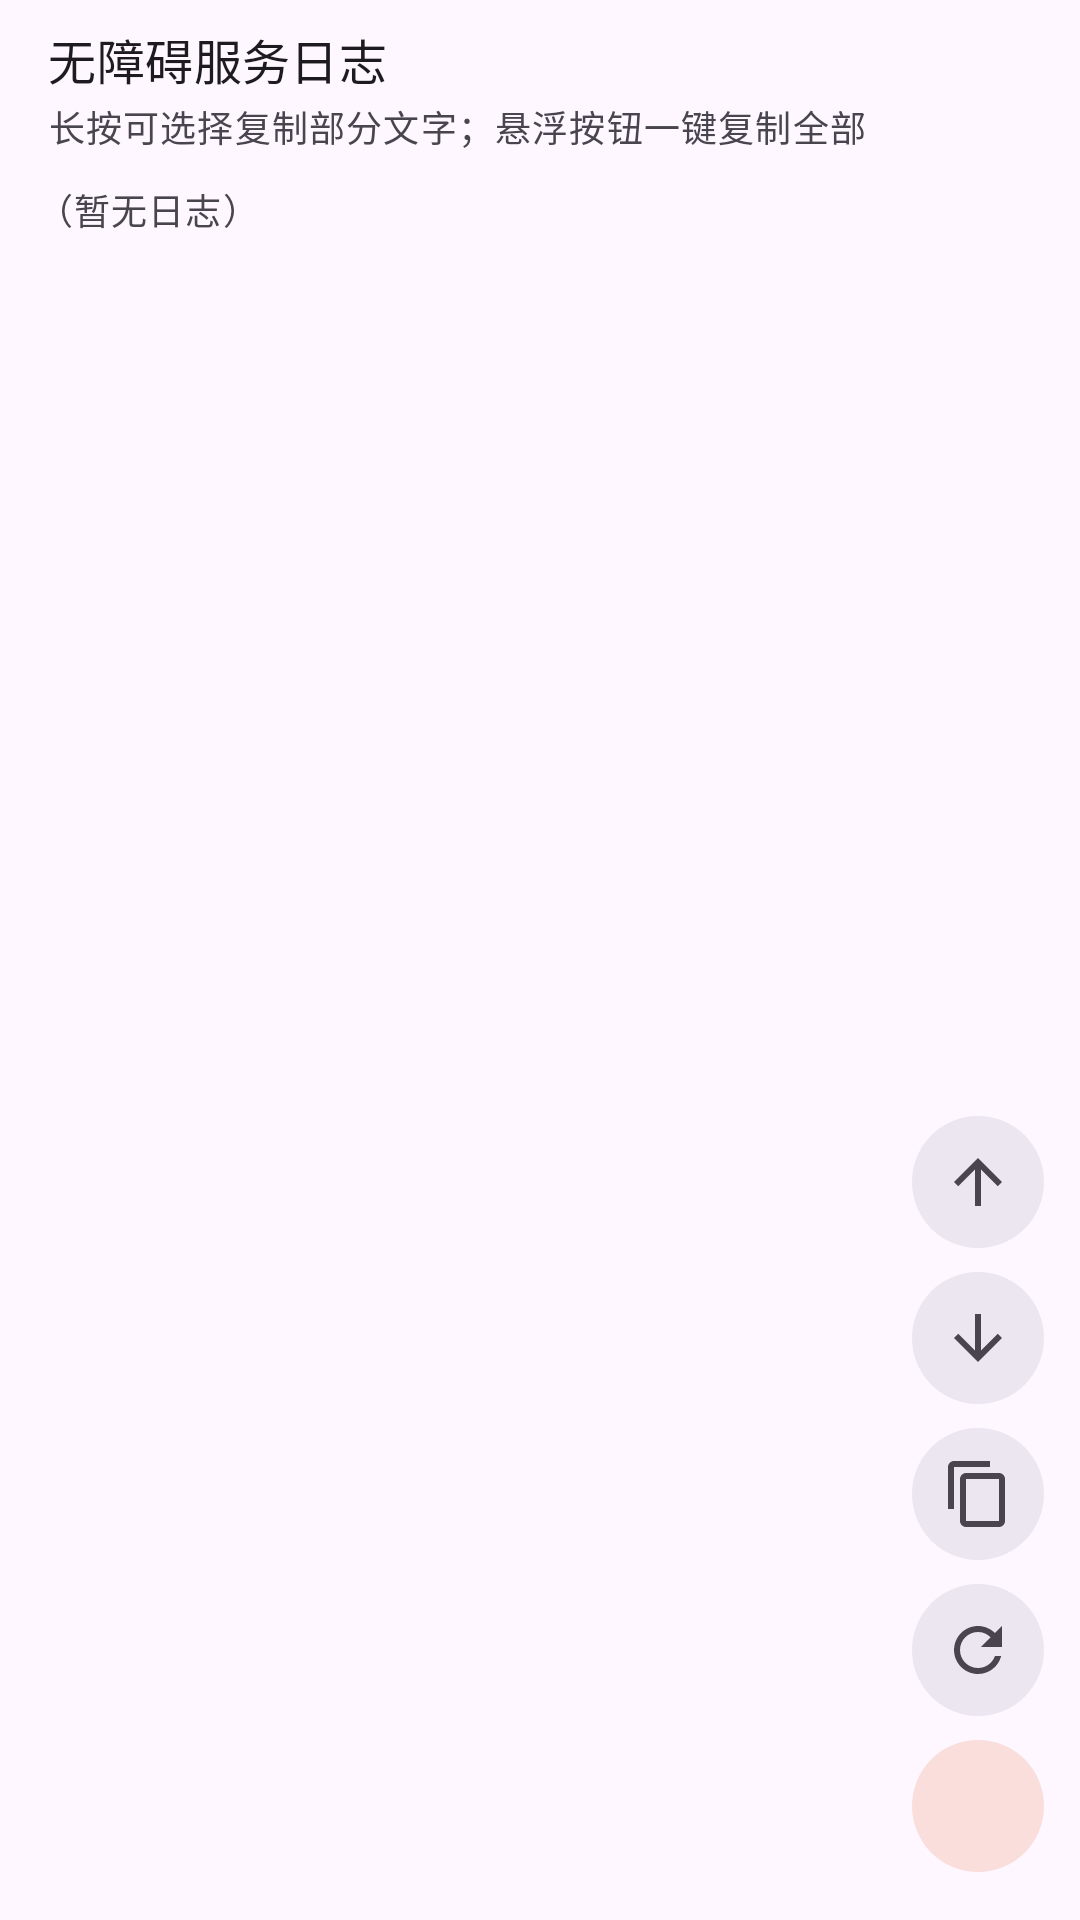

Icon bounding boxes for this 1080x1920 phone screenshot, format (x1, y1, x2, y2):
刷新: (912, 1584, 1044, 1716)
回到底部: (912, 1272, 1044, 1404)
回到顶部: (912, 1116, 1044, 1248)
复制全部日志: (912, 1428, 1044, 1560)
